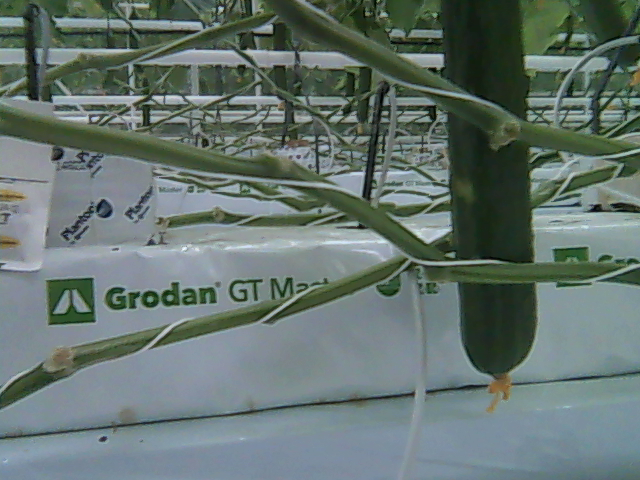concombre: (441, 1, 541, 411)
